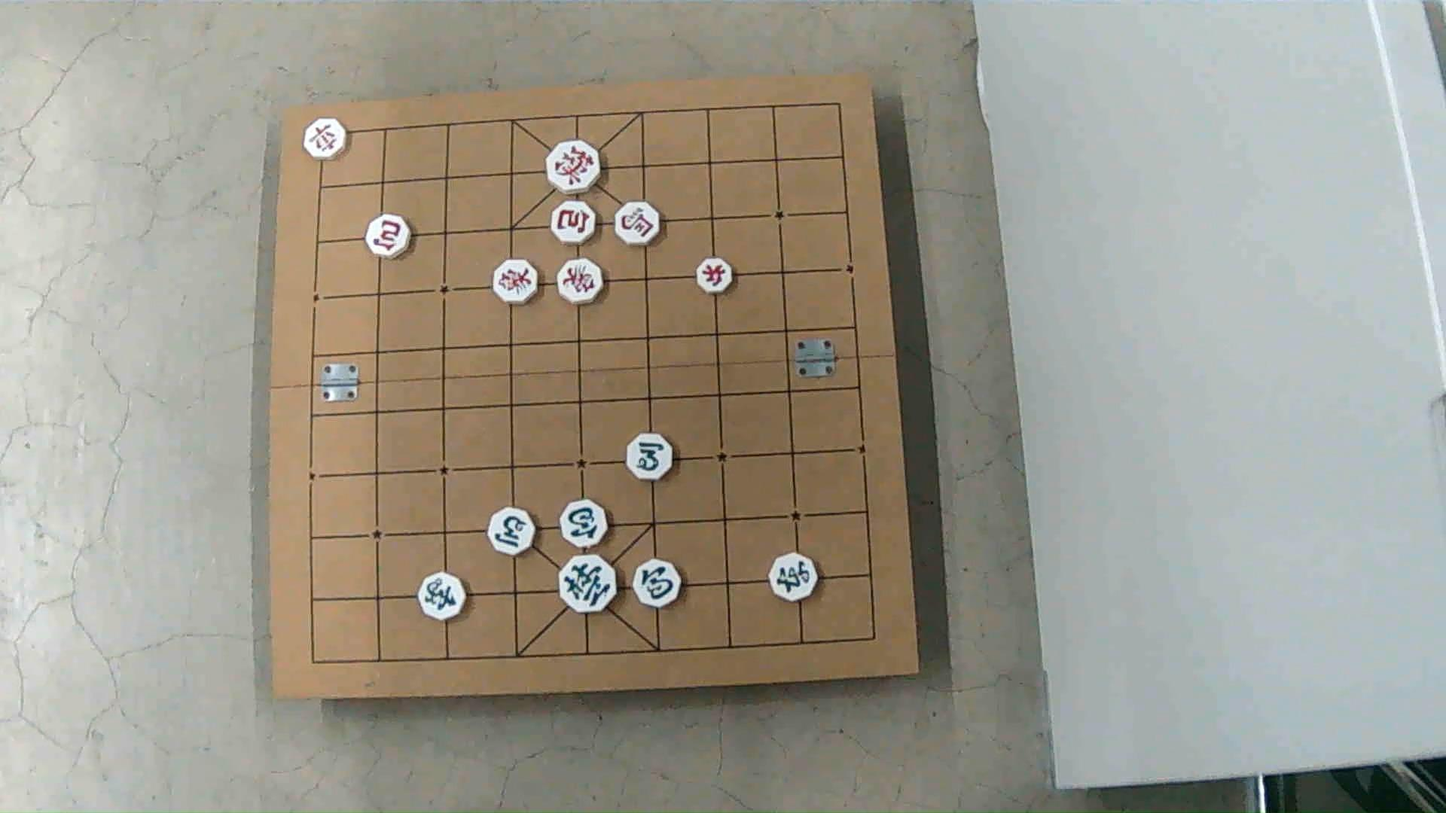cha_green: (770, 552, 817, 599)
cha_red: (304, 117, 347, 157)
jol_red: (699, 258, 734, 294)
ma_green: (489, 507, 536, 555), (629, 434, 676, 481)
ma_red: (615, 203, 661, 247)
po_green: (559, 498, 607, 547), (633, 561, 679, 609)
po_red: (550, 199, 594, 242), (367, 214, 412, 256)
sang_green: (419, 573, 466, 621)
sang_red: (556, 259, 602, 303), (492, 260, 535, 304)
wang_green: (560, 556, 619, 614)
wang_red: (547, 142, 601, 194)
